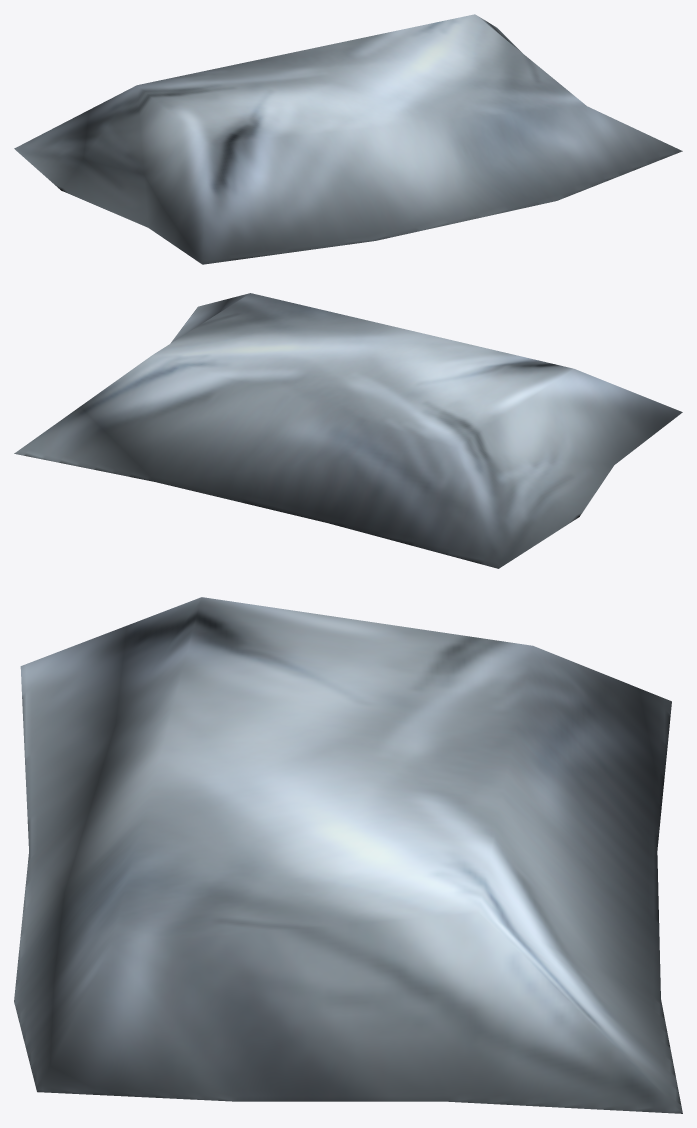
The model's file is drug_pills.glb.
The picture shows the model from 3 angles, top to bottom: view 1: azimuth 30°, elevation 25°; view 2: azimuth 150°, elevation 25°; view 3: azimuth 270°, elevation 25°; orthographic projection. The views are drawn at different scales.
Visible parts, largest first — view 1: Box01; view 2: Box01; view 3: Box01.
Part boxes in pixels (x1=…): Box01: x1=14, y1=14, x2=682, y2=264; Box01: x1=14, y1=293, x2=682, y2=568; Box01: x1=14, y1=597, x2=682, y2=1113.
Size of the model in its own units: 4.45 by 0.8941 by 2.95.
Materials: 1 (1 with a texture image).
